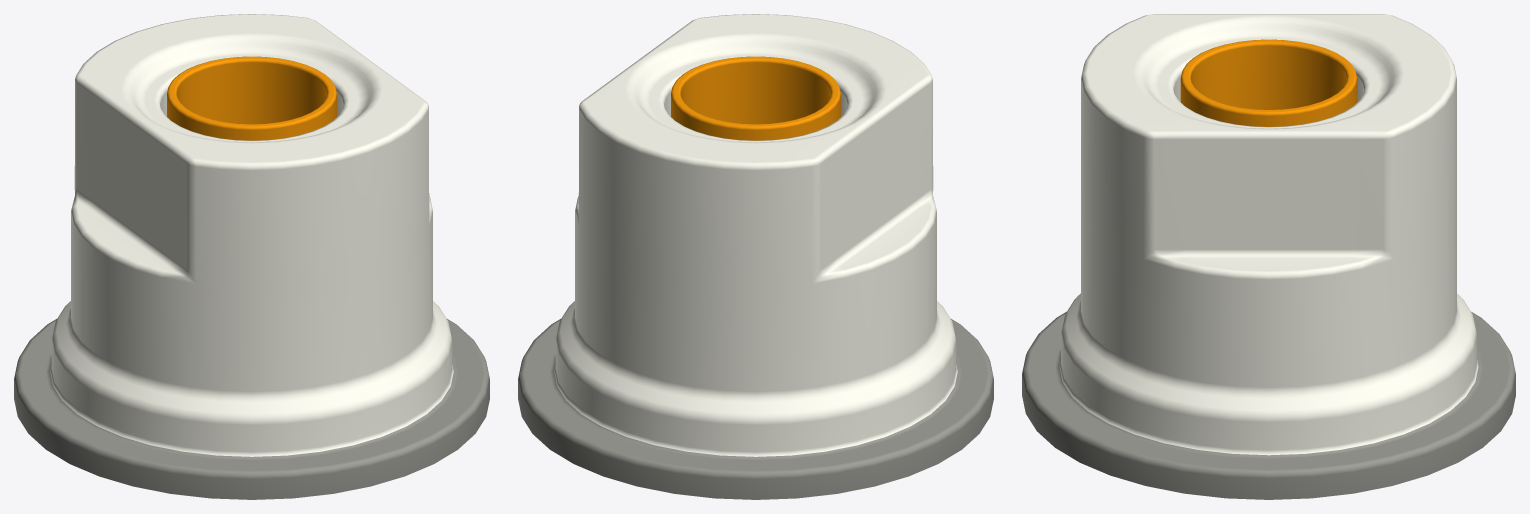
Rendered from Button #3.fbx.
The picture shows the model from 3 angles, left to right: view 1: azimuth 30°, elevation 25°; view 2: azimuth 150°, elevation 25°; view 3: azimuth 270°, elevation 25°; orthographic projection. The views are drawn at different scales.
Parts seen in each view (by area): view 1: kitbash_102; view 2: kitbash_102; view 3: kitbash_102.
Part boxes in pixels (<box>): kitbash_102: <box>14,14,489,499</box>; kitbash_102: <box>518,14,993,499</box>; kitbash_102: <box>1022,14,1515,499</box>.
Size of the model in its own units: 3.22 by 2.32 by 3.22.
